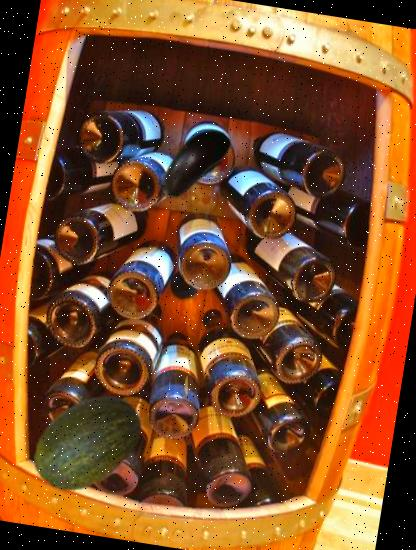Eggplant: (141, 111, 244, 214)
Melon: (22, 378, 158, 513)
